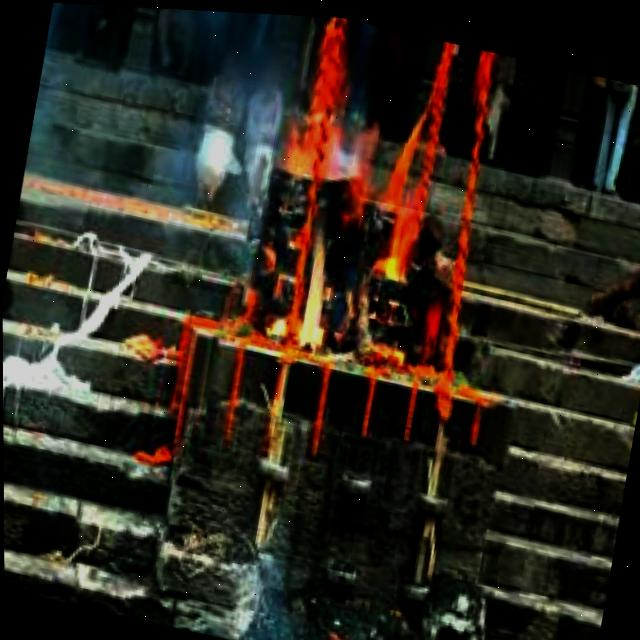Smoke: (263, 82, 449, 373)
